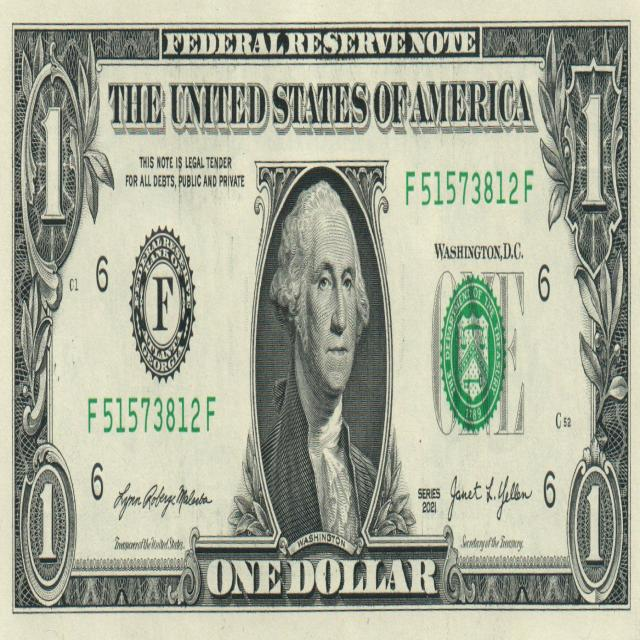SerialNumber: (88, 397, 215, 433), (406, 170, 533, 206)
